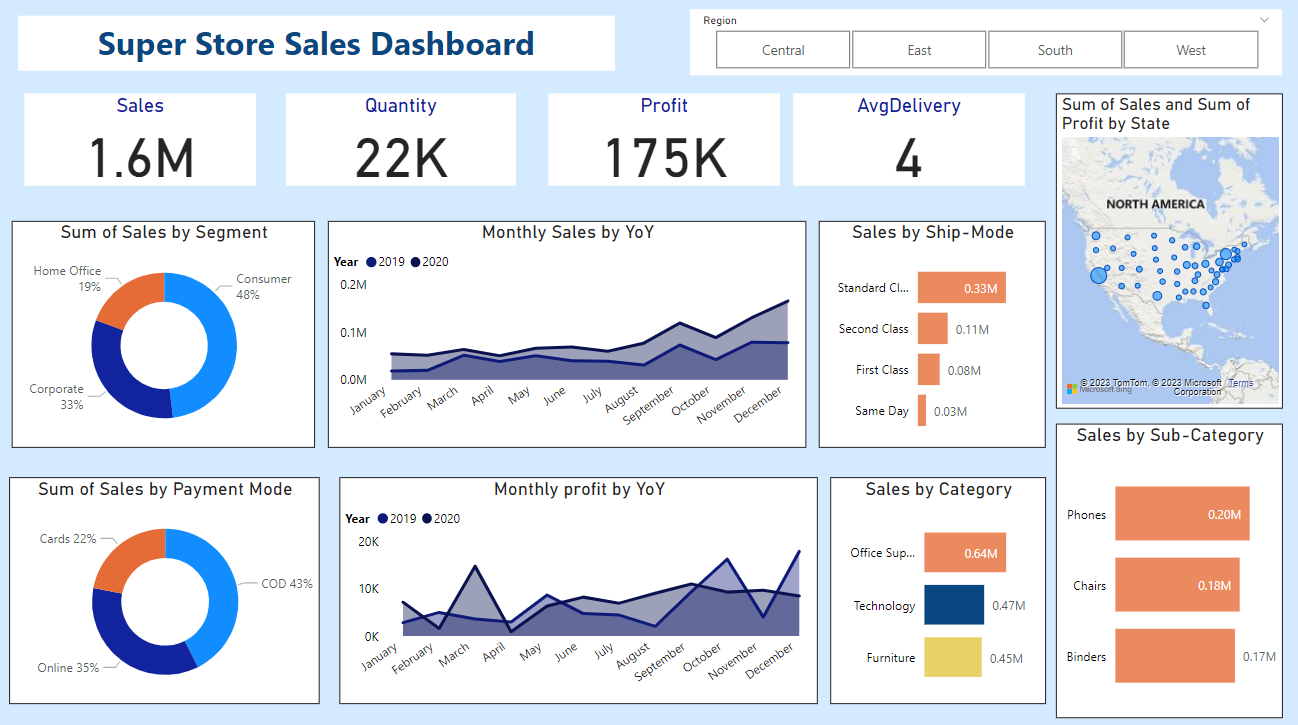

The page's visual inventory and layout, read from the dashboard file:
{"tool":"powerbi","page":{"name":"Page 1","canvas":[1280,720],"ordinal":0},"visuals":[{"type":"clusteredBarChart","title":"Sales by Category","fields":{"Category":["SuperStore_Sales_Dataset.Category"],"Y":["Sum(SuperStore_Sales_Dataset.Sales)"]},"box":[818.8,476,212.5,223.8],"z":0},{"type":"clusteredBarChart","title":"Sales by Sub-Category","fields":{"Category":["SuperStore_Sales_Dataset.Sub-Category"],"Y":["Sum(SuperStore_Sales_Dataset.Sales)"]},"box":[1041.3,423.6,223.8,290.4],"z":1000},{"type":"areaChart","title":"Monthly profit by YoY","fields":{"Category":["SuperStore_Sales_Dataset.Order Date.Variation.Date Hierarchy.Month","SuperStore_Sales_Dataset.Order Date.Variation.Date Hierarchy.Day"],"Series":["SuperStore_Sales_Dataset.Order Date.Variation.Date Hierarchy.Year"],"Y":["Sum(SuperStore_Sales_Dataset.Profit)"]},"box":[335.8,476,471.8,223.8],"z":2000},{"type":"clusteredBarChart","title":"Sales by Ship-Mode","fields":{"Category":["SuperStore_Sales_Dataset.Ship Mode","SuperStore_Sales_Dataset.Sub-Category"],"Y":["Sum(SuperStore_Sales_Dataset.Sales)"]},"box":[807.5,223.8,223.8,223.8],"z":3000},{"type":"areaChart","title":"Monthly Sales by YoY","fields":{"Y":["Sum(SuperStore_Sales_Dataset.Sales)"],"Category":["SuperStore_Sales_Dataset.Order Date.Variation.Date Hierarchy.Month","SuperStore_Sales_Dataset.Order Date.Variation.Date Hierarchy.Day"],"Series":["SuperStore_Sales_Dataset.Order Date.Variation.Date Hierarchy.Year"]},"box":[324.4,223.8,471.8,223.8],"z":4000},{"type":"map","fields":{"Category":["SuperStore_Sales_Dataset.State"],"Size":["Sum(SuperStore_Sales_Dataset.Sales)"]},"box":[1041.3,97.8,223.8,310.3],"z":5000},{"type":"donutChart","fields":{"Category":["SuperStore_Sales_Dataset.Segment"],"Y":["Sum(SuperStore_Sales_Dataset.Sales)"]},"box":[12.8,223.8,298.9,223.8],"z":6000},{"type":"donutChart","fields":{"Category":["SuperStore_Sales_Dataset.Payment Mode"],"Y":["Sum(SuperStore_Sales_Dataset.Sales)"]},"box":[9.9,476,306,223.8],"z":7000},{"type":"slicer","fields":{"Values":["SuperStore_Sales_Dataset.Region"]},"box":[681.4,15.6,583.7,65.2],"z":8000},{"type":"textbox","box":[18.4,21.3,587.9,53.8],"z":9000},{"type":"card","title":"Sales","fields":{"Values":["Sum(SuperStore_Sales_Dataset.Sales)"]},"box":[25.5,97.8,228.1,90.7],"z":10000},{"type":"card","title":"Profit","fields":{"Values":["Sum(SuperStore_Sales_Dataset.Profit)"]},"box":[541.2,97.8,228.1,90.7],"z":11000},{"type":"card","title":"Quantity","fields":{"Values":["Sum(SuperStore_Sales_Dataset.Quantity)"]},"box":[283.3,97.8,226.7,90.7],"z":12000},{"type":"card","title":"AvgDelivery","fields":{"Values":["Avg(SuperStore_Sales_Dataset.AvgDelivery)"]},"box":[783.4,97.8,228.1,90.7],"z":13000}]}

Visuals, with their boxes in screenshot pixels (x1, y1, x2, y2), scaled from the page's 1280x720 canvas onto the 1298x725 screenshot:
"Sales by Category" clusteredBarChart: (830,479,1046,705)
"Sales by Sub-Category" clusteredBarChart: (1056,427,1283,719)
"Monthly profit by YoY" areaChart: (341,479,819,705)
"Sales by Ship-Mode" clusteredBarChart: (819,225,1046,451)
"Monthly Sales by YoY" areaChart: (329,225,807,451)
map - SuperStore_Sales_Dataset.State x Sum(SuperStore_Sales_Dataset.Sales): (1056,98,1283,411)
donutChart - SuperStore_Sales_Dataset.Segment x Sum(SuperStore_Sales_Dataset.Sales): (13,225,316,451)
donutChart - SuperStore_Sales_Dataset.Payment Mode x Sum(SuperStore_Sales_Dataset.Sales): (10,479,320,705)
slicer - SuperStore_Sales_Dataset.Region: (691,16,1283,81)
textbox: (19,21,615,76)
"Sales" card: (26,98,257,190)
"Profit" card: (549,98,780,190)
"Quantity" card: (287,98,517,190)
"AvgDelivery" card: (794,98,1026,190)
